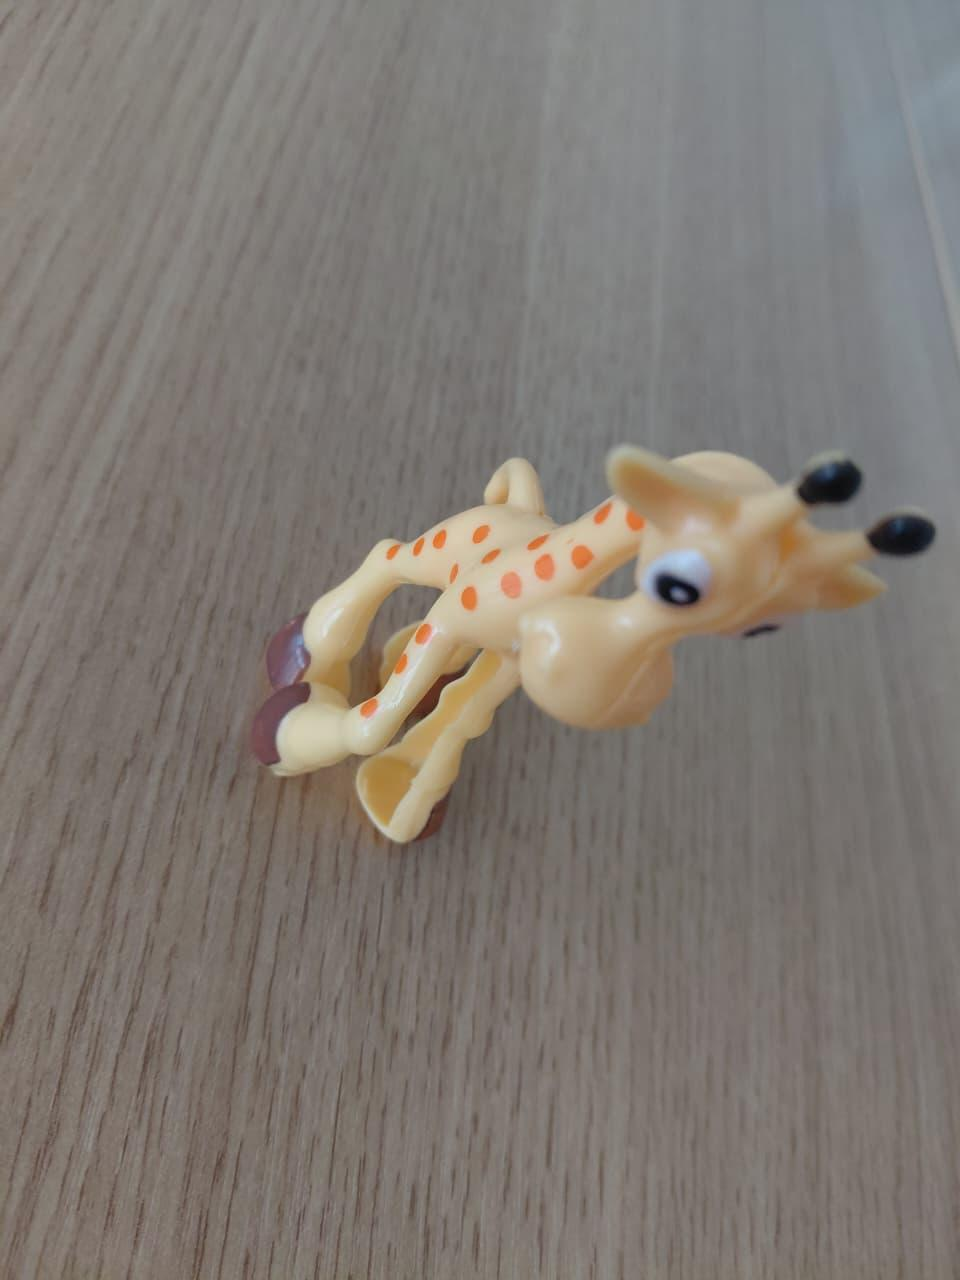giraffe: (233, 366, 950, 907)
